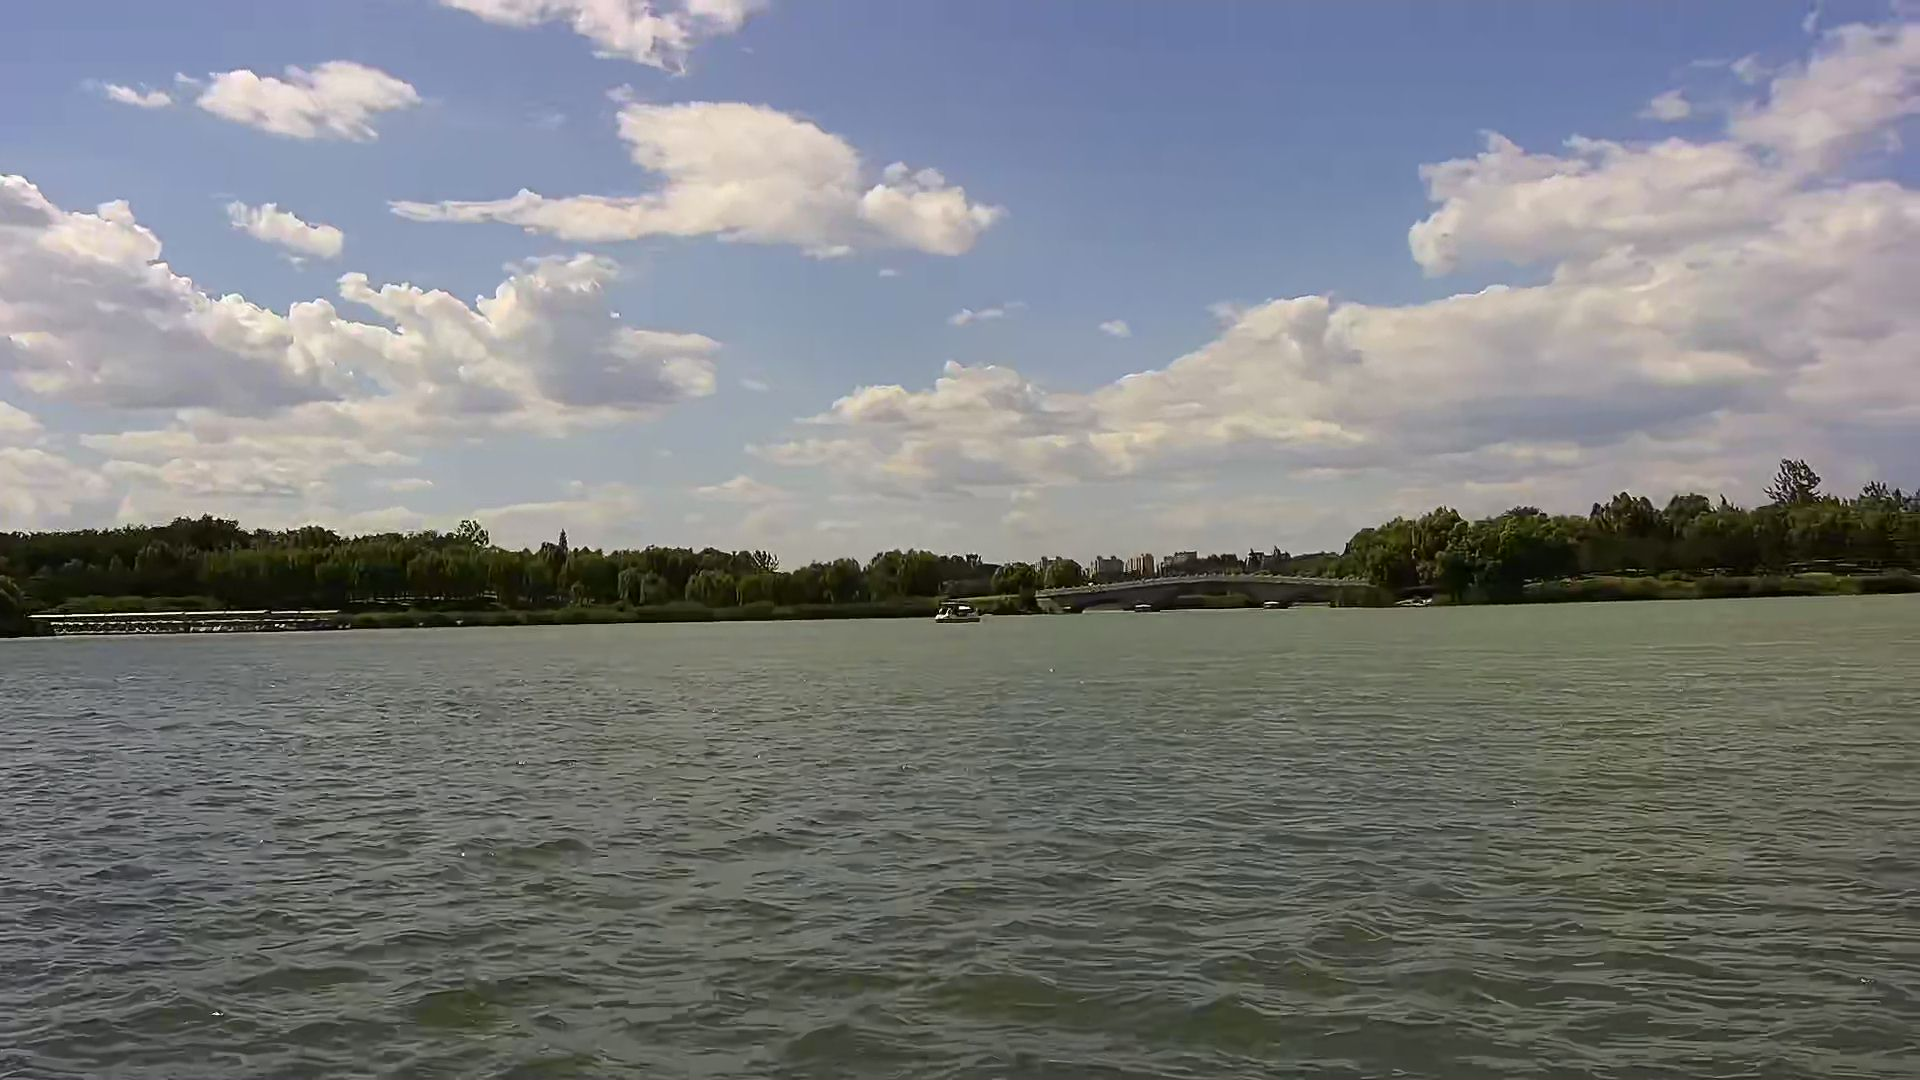boat: (928, 603, 985, 622)
bridge: (1048, 574, 1371, 613), (40, 612, 339, 636)
